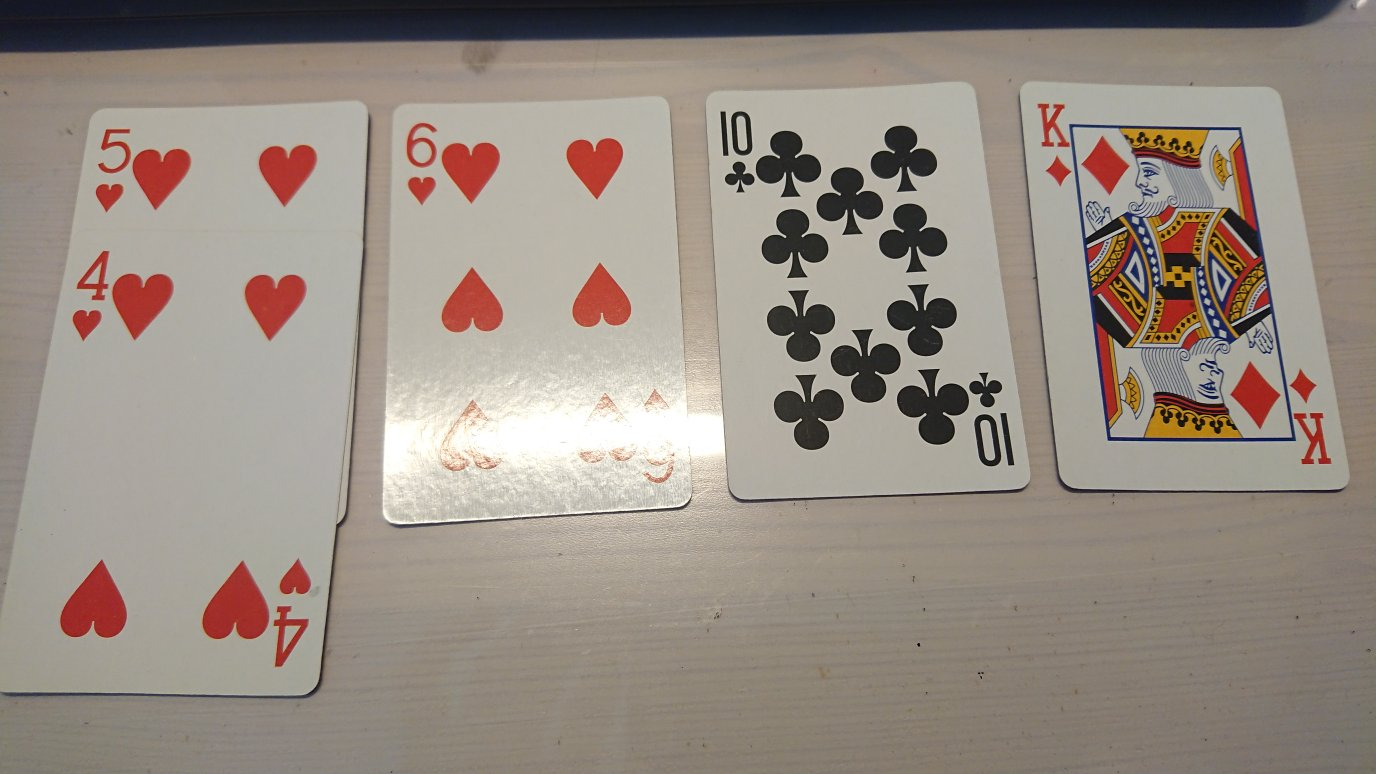10C: (714, 106, 757, 199)
4H: (68, 247, 112, 348)
5H: (91, 125, 135, 216)
6H: (400, 118, 440, 209)
KD: (1030, 100, 1075, 190)
